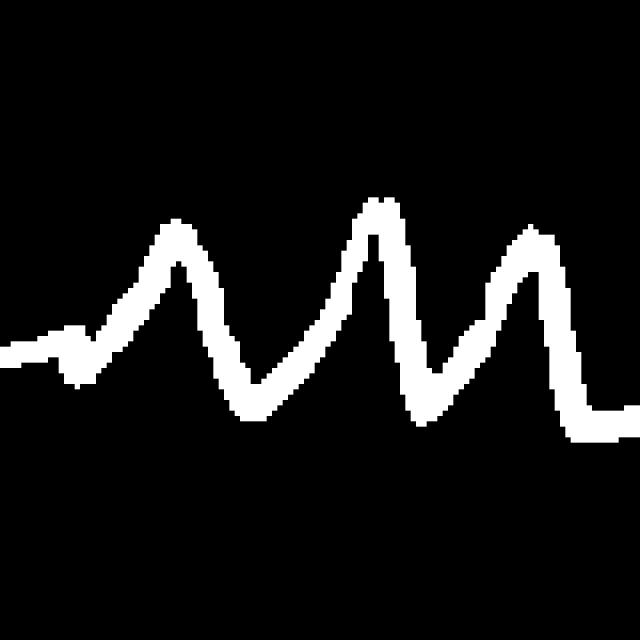resistor: (56, 188, 598, 466)
